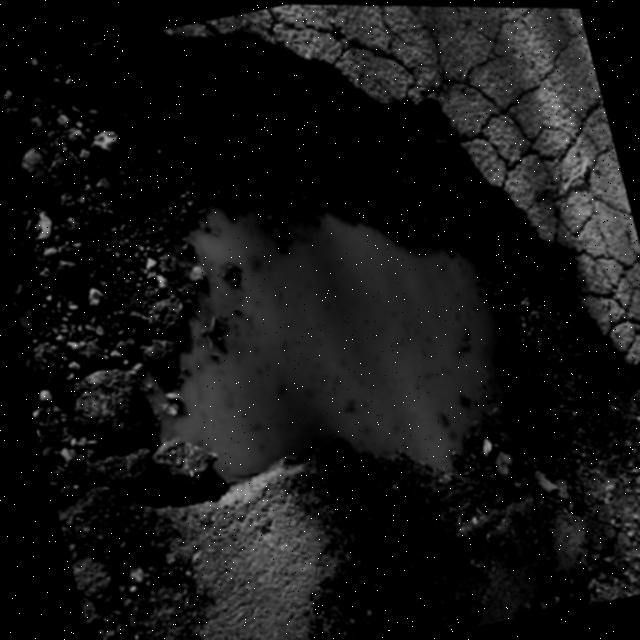Pothole: (2, 21, 633, 552), (228, 3, 640, 331)
